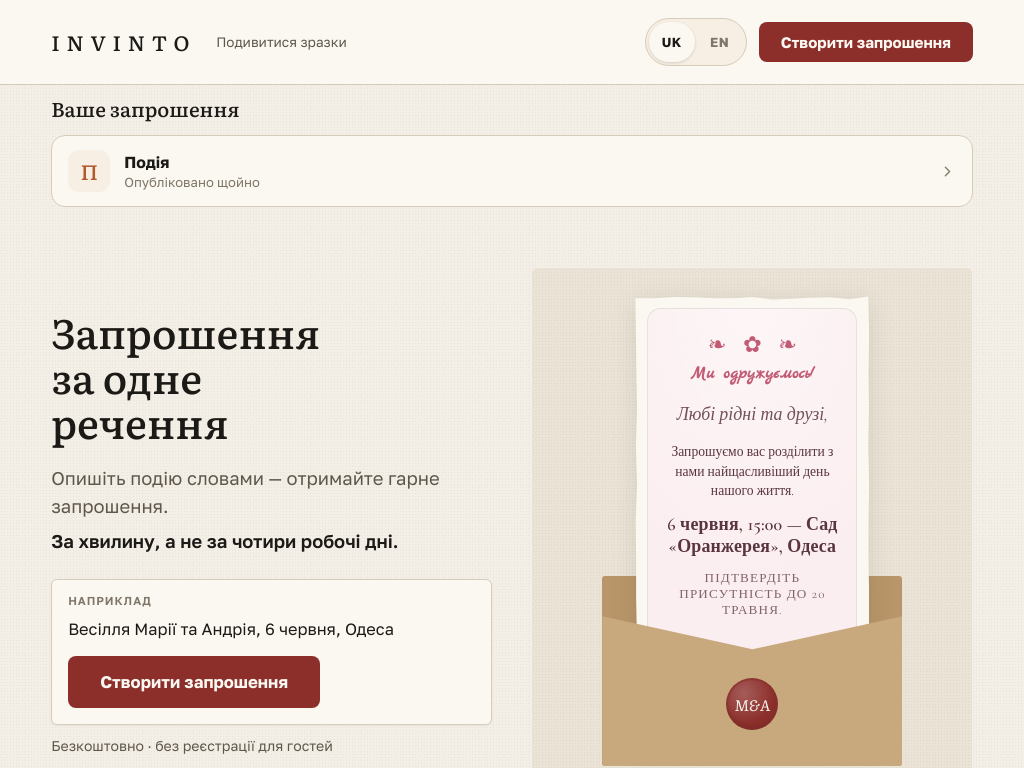
Test: navigation › opens an invitations row in the manage view
Click the link "П Подія Опубліковано щойно" at point(89, 171), box [52,136,972,206]
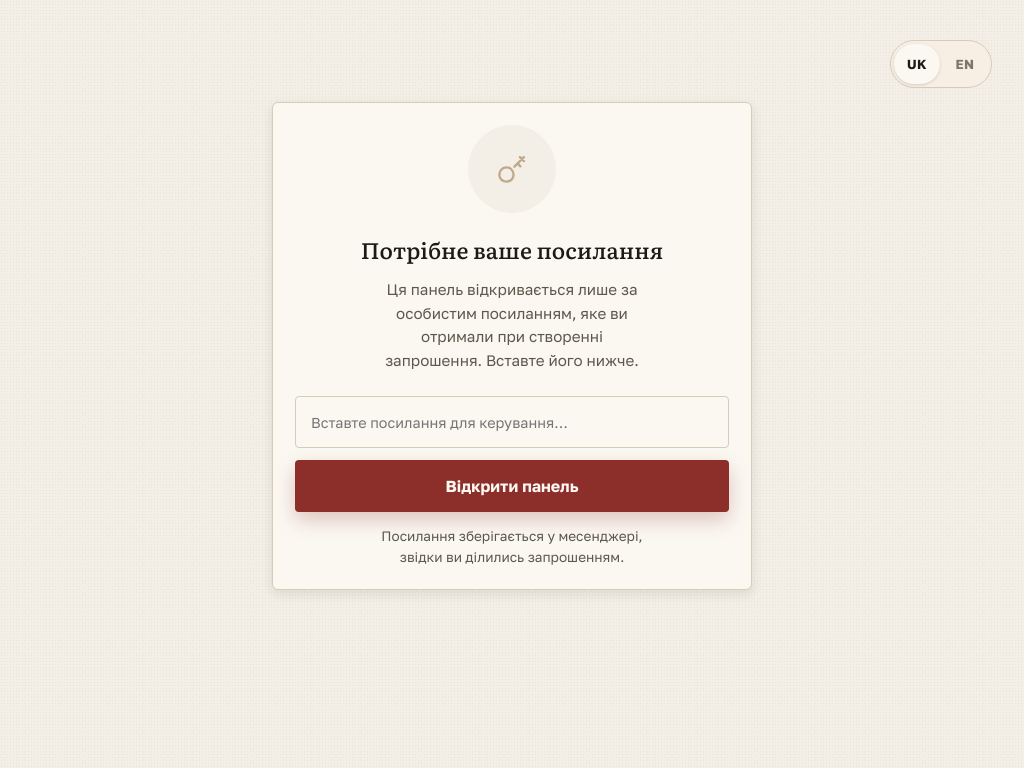
Expected: the heading "Потрібне ваше посилання" is shown, [361,233,663,266]
